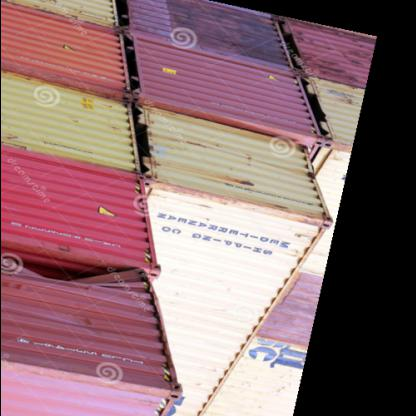Damage: (20, 242, 116, 290)
